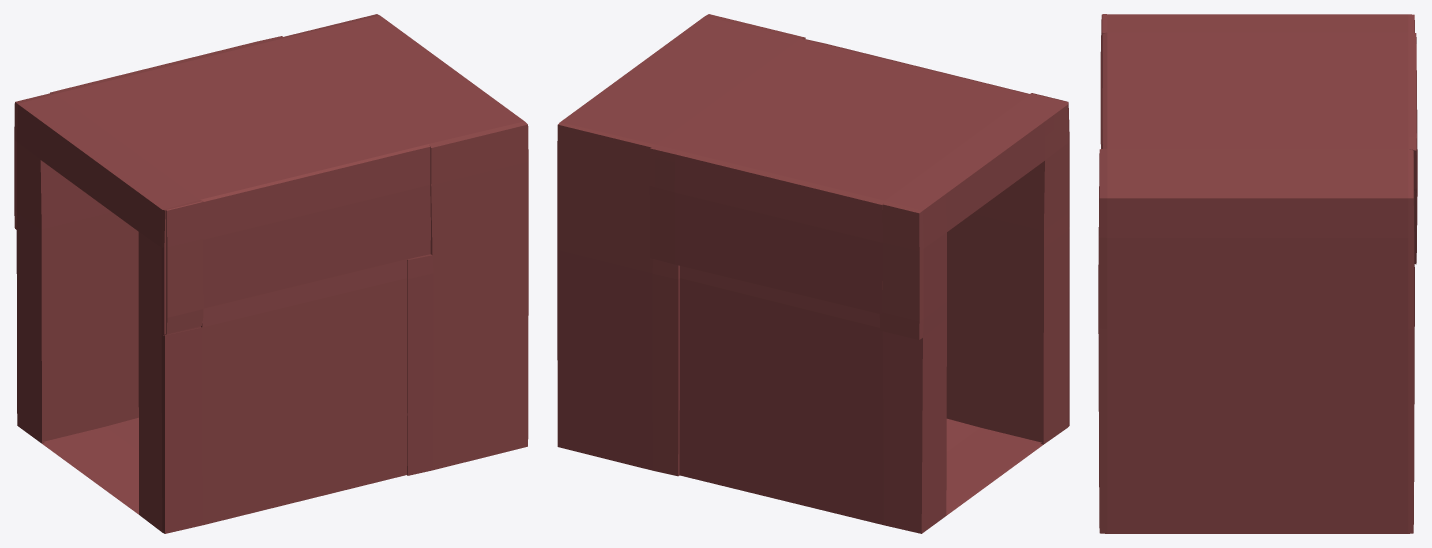
File: cube.002_material_0_lev3.glb
3 renders of one model, left to right at view 1: azimuth 30°, elevation 25°; view 2: azimuth 150°, elevation 25°; view 3: azimuth 270°, elevation 25°, orthographic. The views are drawn at different scales.
Parts seen in each view (by area): view 1: cube.002_material_0_lev3; view 2: cube.002_material_0_lev3; view 3: cube.002_material_0_lev3.
Part boxes in pixels (left/top/right/bottom): cube.002_material_0_lev3: left=14, top=14, right=528, bottom=533; cube.002_material_0_lev3: left=557, top=14, right=1069, bottom=533; cube.002_material_0_lev3: left=1098, top=14, right=1417, bottom=533.
Size of the model in its own units: 4.85 by 4.13 by 3.54.
